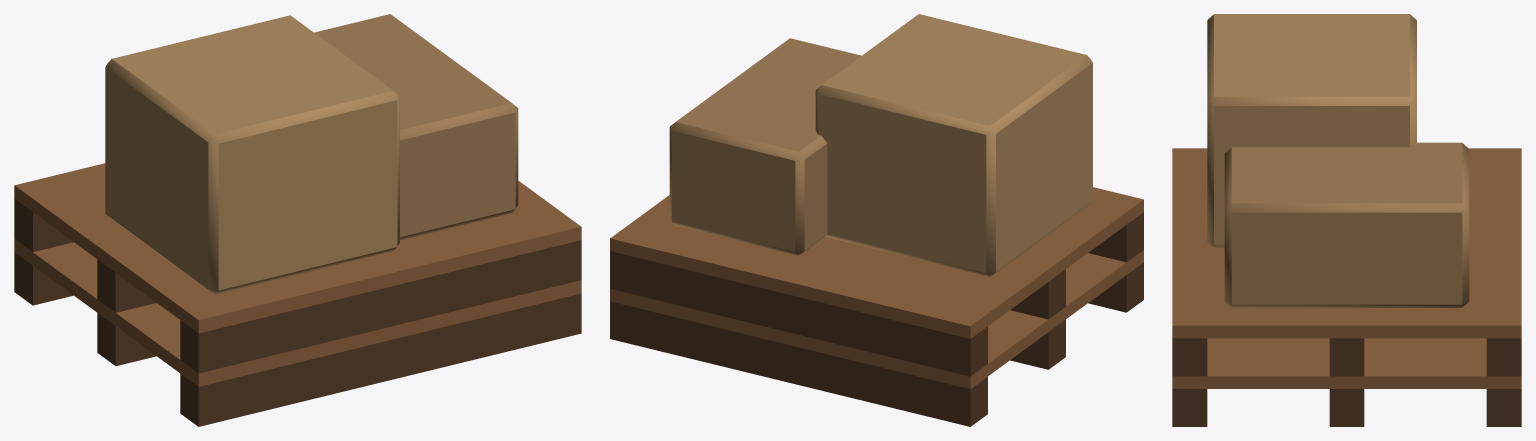
File: Pallets.fbx
3 views of the same model, side by side, from view 1: azimuth 30°, elevation 25°; view 2: azimuth 150°, elevation 25°; view 3: azimuth 270°, elevation 25° (orthographic). The views are drawn at different scales.
Parts seen in each view (by area): view 1: Pallets; view 2: Pallets; view 3: Pallets.
Part boxes in pixels (left/top/right/bottom): Pallets: left=14, top=14, right=581, bottom=426; Pallets: left=610, top=14, right=1143, bottom=426; Pallets: left=1172, top=14, right=1521, bottom=426.
Bounding box in the file's own units: 1.2 × 0.8 × 1.
